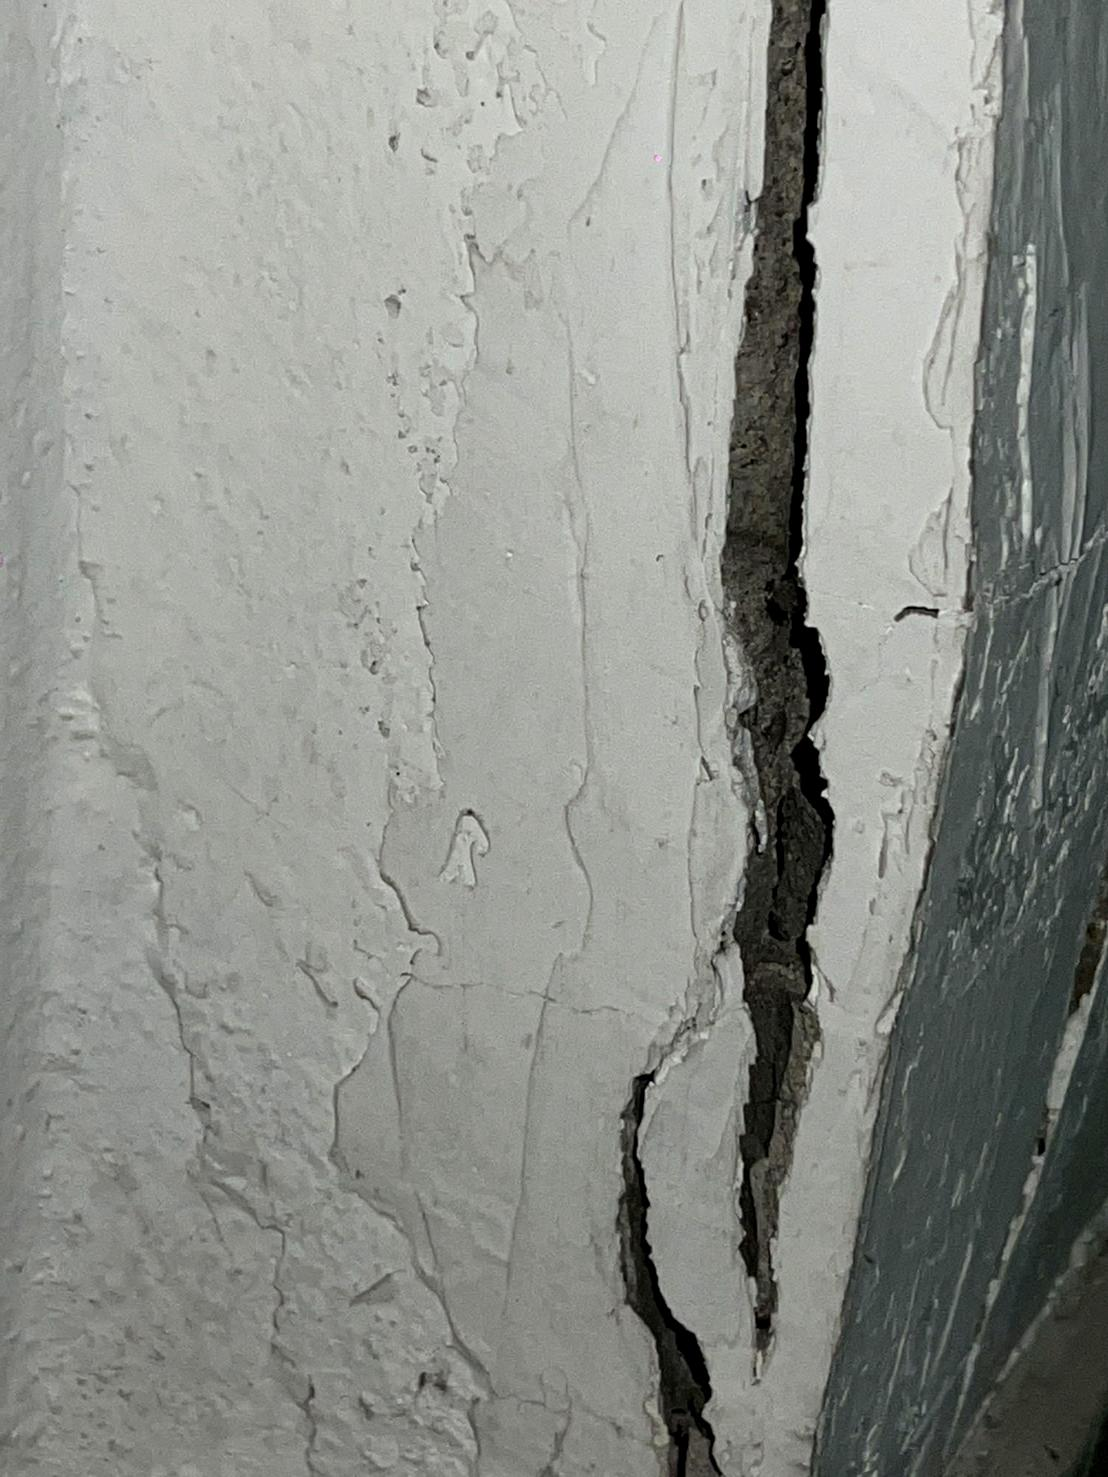High: (561, 8, 865, 1477)
